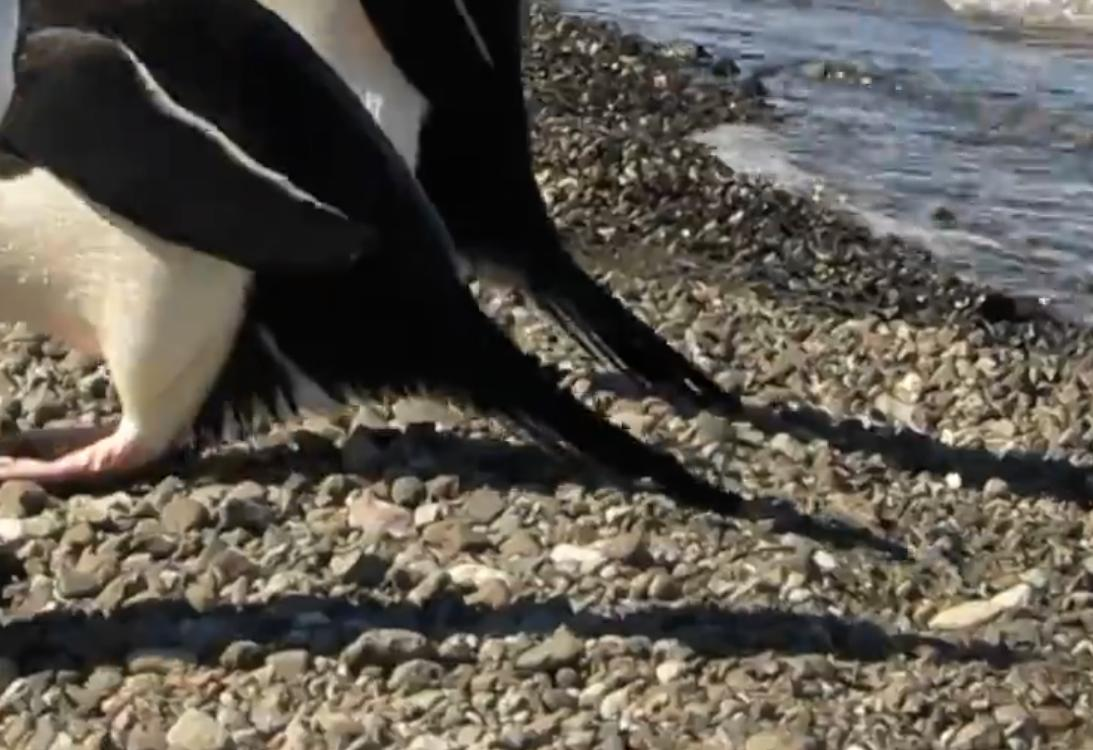Chinstrap Penguin: (8, 0, 779, 407), (0, 0, 217, 691)
